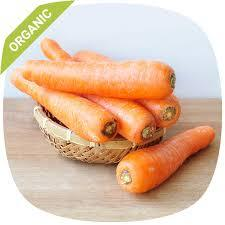Organic: (10, 29, 216, 206)
